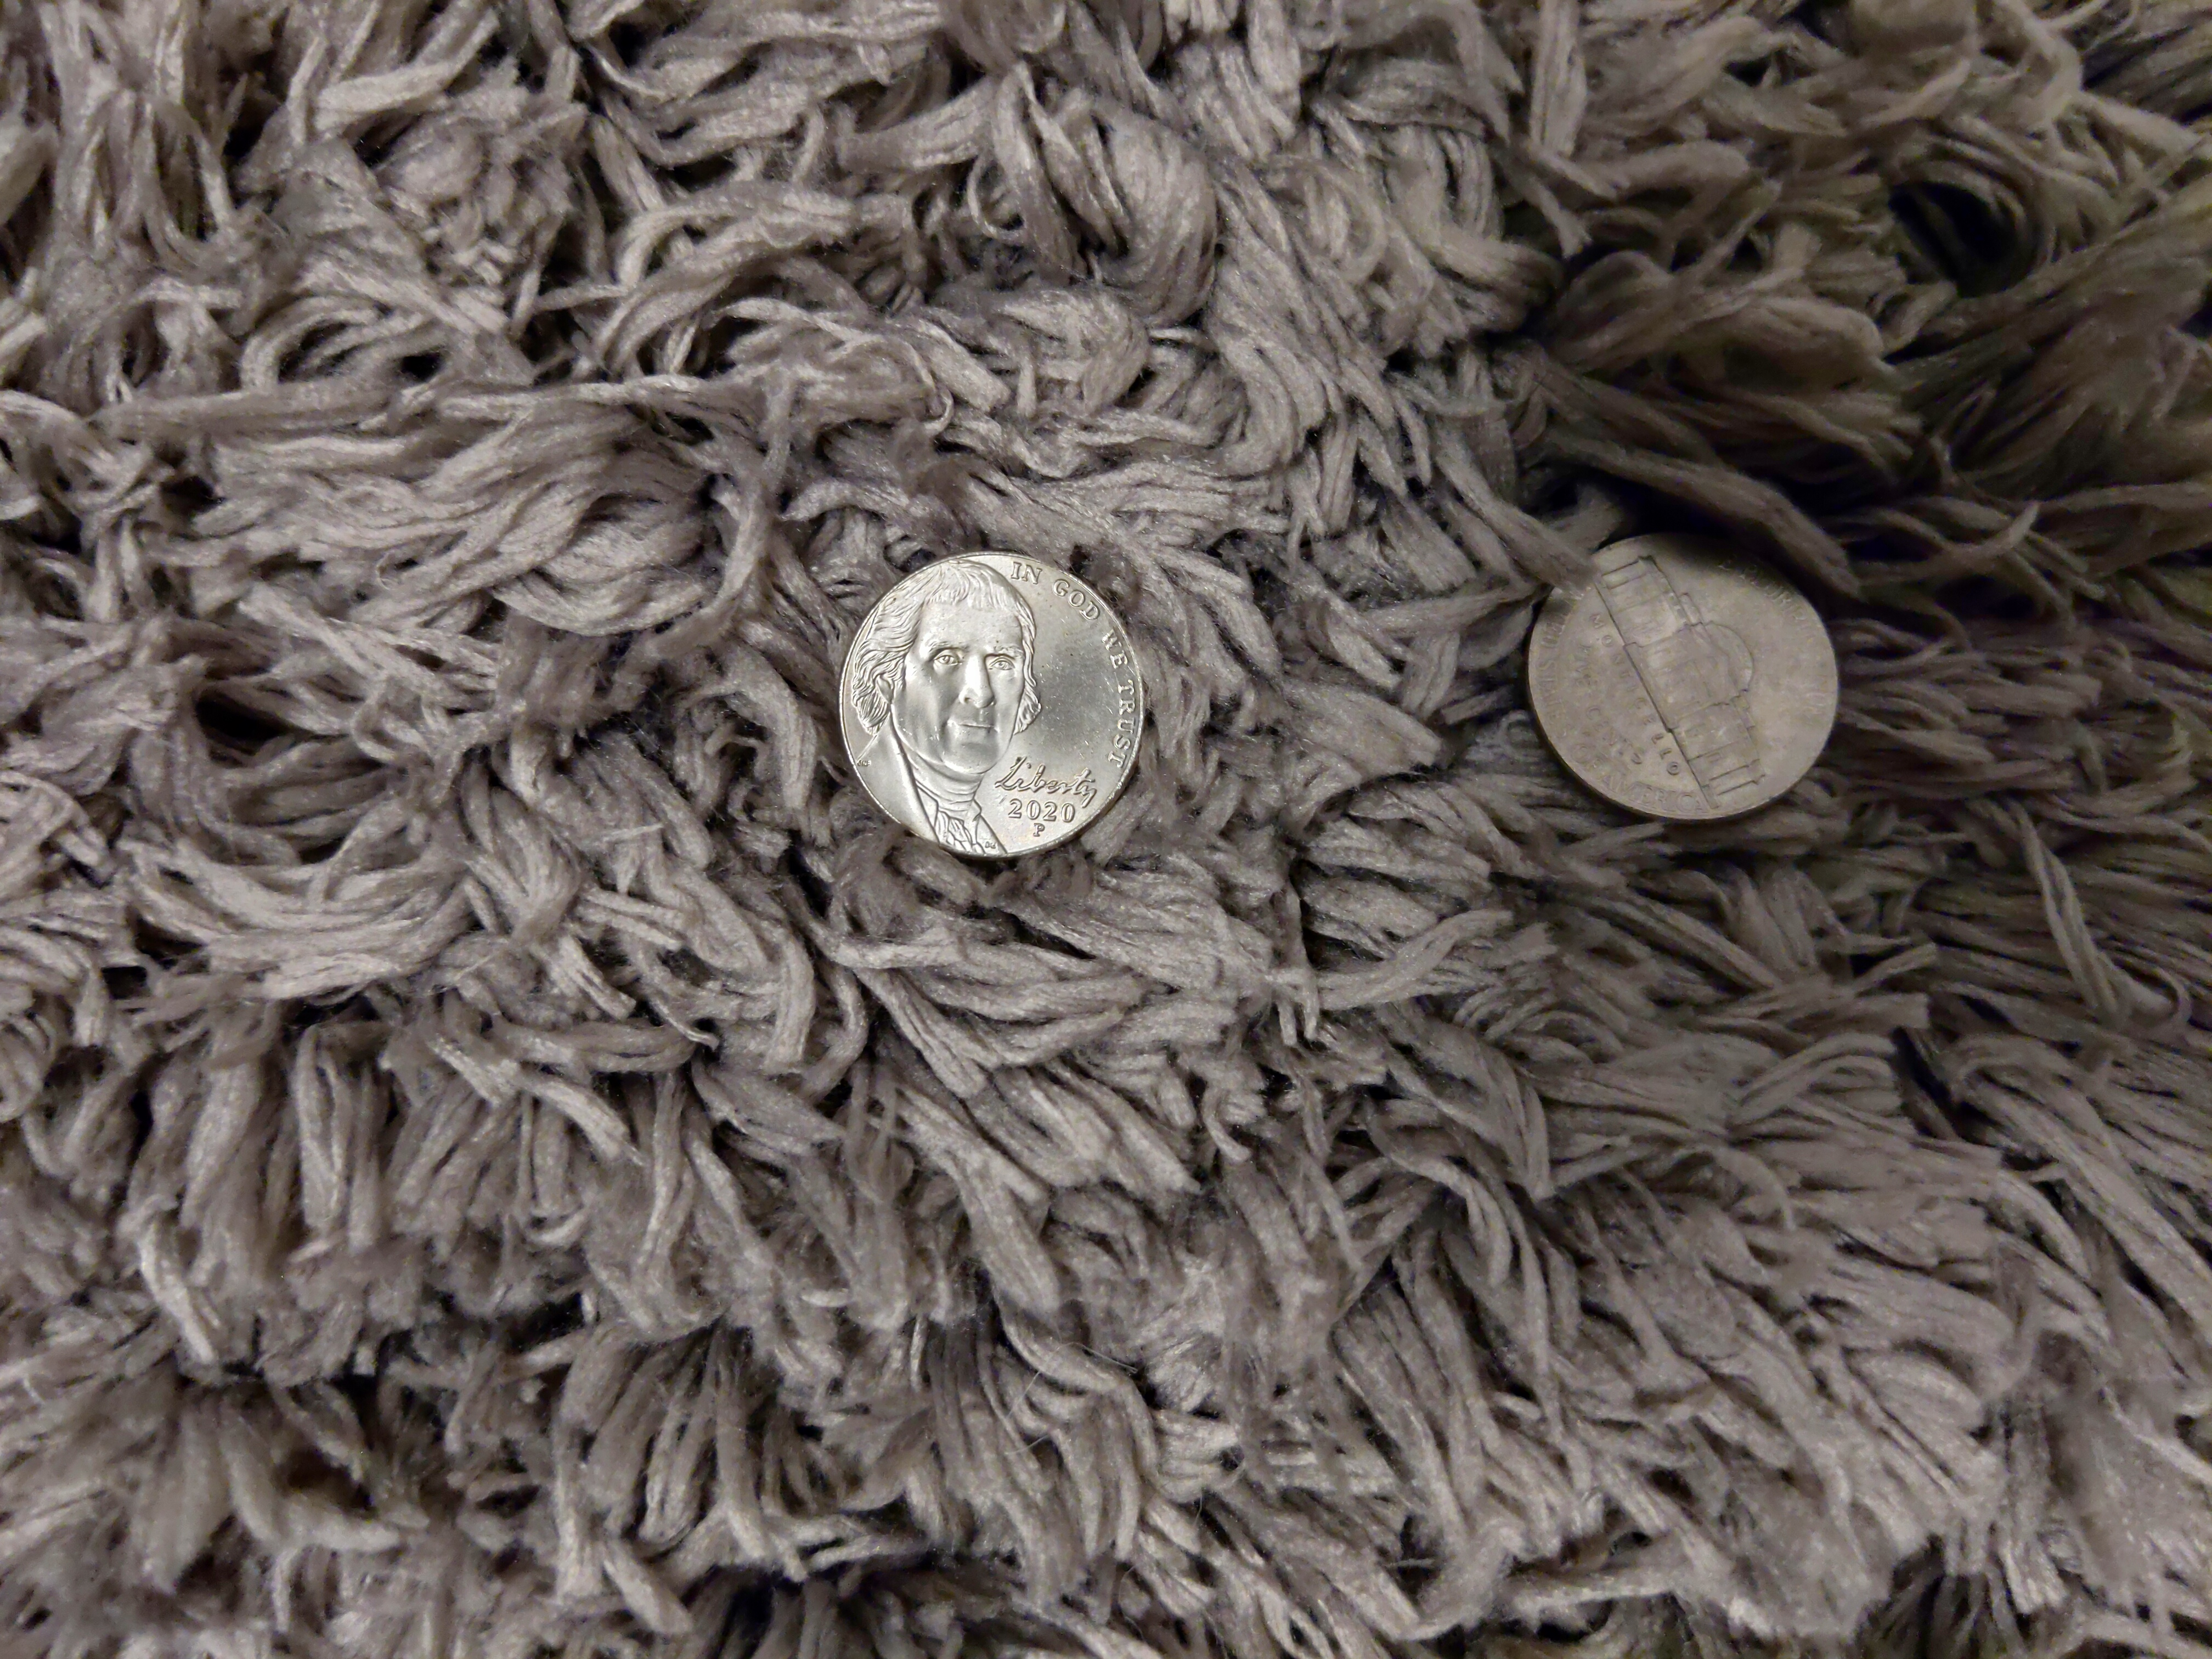Nickel: (833, 547, 1151, 866), (1519, 521, 1844, 824)
